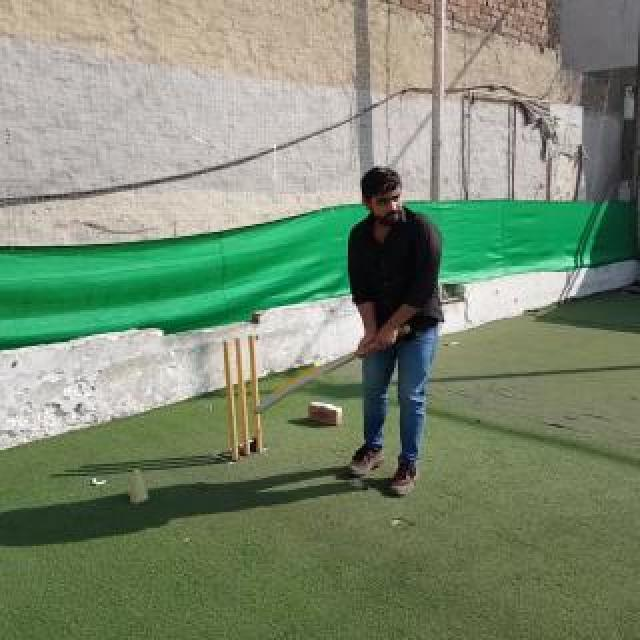bat: (253, 324, 411, 414)
